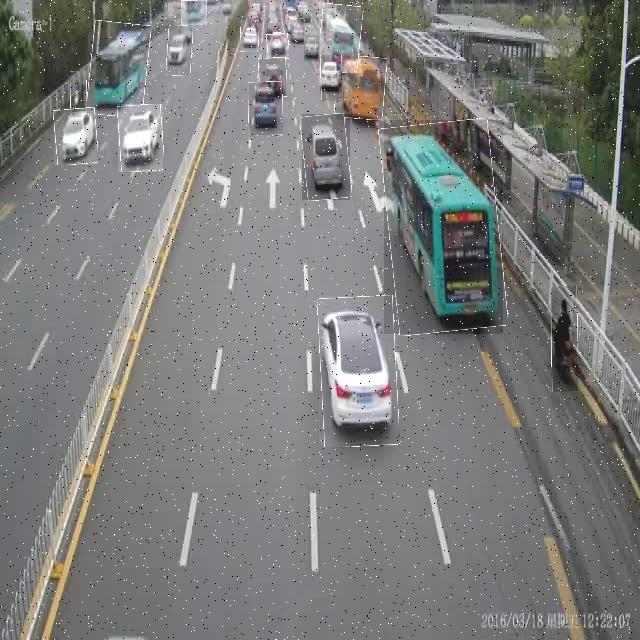Bus: (384, 120, 503, 334), (88, 22, 149, 117), (336, 56, 386, 120), (319, 4, 361, 73), (181, 0, 207, 25)
Car: (319, 296, 398, 447), (302, 114, 350, 200), (118, 104, 163, 172), (54, 108, 97, 165), (249, 82, 283, 135), (168, 25, 192, 76), (259, 58, 286, 97), (321, 56, 342, 101), (241, 20, 259, 52), (266, 34, 288, 59), (304, 36, 320, 62), (290, 18, 304, 45)
Motorcycle: (552, 286, 578, 392), (70, 71, 87, 115)
